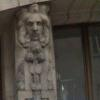Statue: (12, 3, 70, 94)
